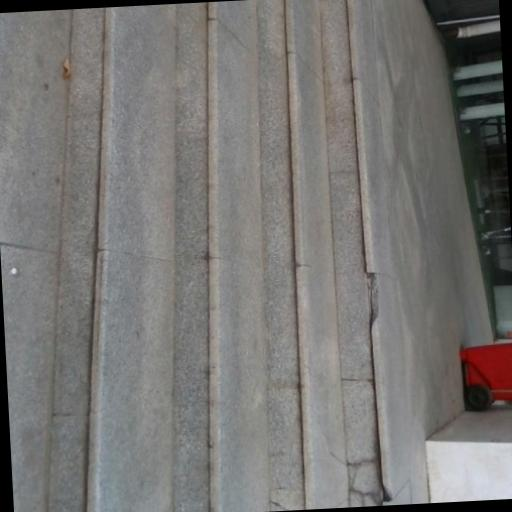stairs: (47, 0, 380, 511)
